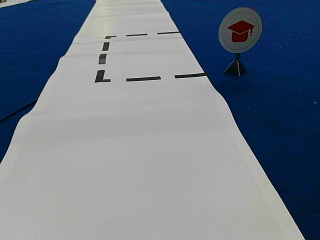school: (218, 7, 261, 52)
